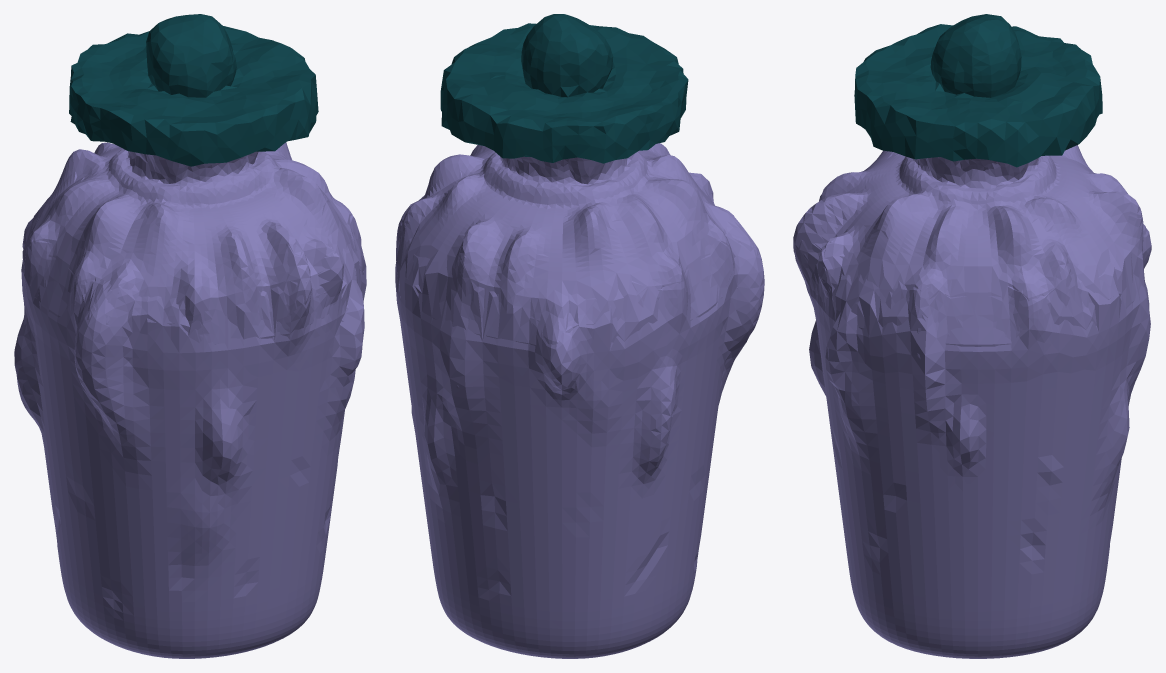
The model's file is iksir3.fbx.
3 views of the same model, side by side, from view 1: azimuth 30°, elevation 25°; view 2: azimuth 150°, elevation 25°; view 3: azimuth 270°, elevation 25° (orthographic).
Visible parts, largest first — view 1: iksir3; view 2: iksir3; view 3: iksir3.
Part boxes in pixels (x1,y1,x2,y2): iksir3: [14, 14, 366, 658]; iksir3: [395, 14, 764, 658]; iksir3: [793, 14, 1151, 658].
Size of the model in its own units: 172 by 327 by 176.
